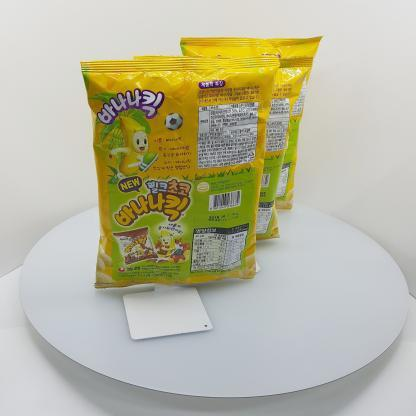Plastic Packaging: (68, 28, 336, 296)
